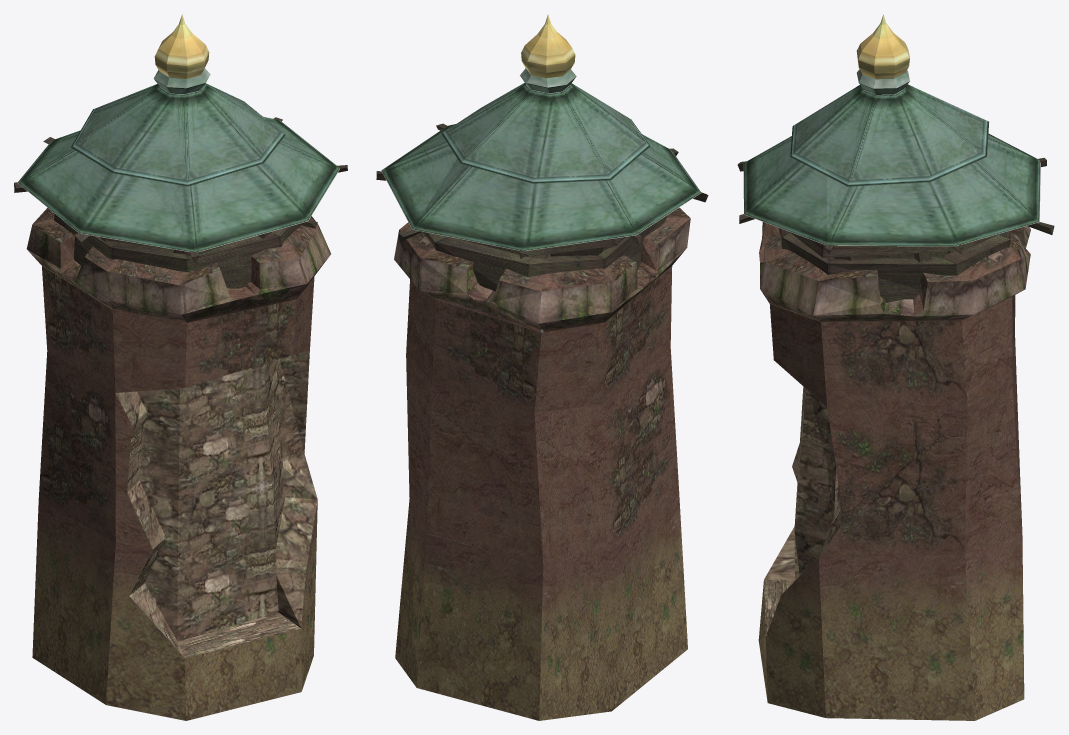
The model's file is C1SMTHBROKE_H.obj.
The picture shows the model from 3 angles, left to right: view 1: azimuth 30°, elevation 25°; view 2: azimuth 150°, elevation 25°; view 3: azimuth 270°, elevation 25°; orthographic projection. The views are drawn at different scales.
Visible parts, largest first — view 1: Node 0; view 2: Node 0; view 3: Node 0.
Part boxes in pixels (x1,y1,x2,y2): Node 0: [14, 14, 347, 720]; Node 0: [376, 14, 708, 720]; Node 0: [737, 14, 1054, 720].
Bounding box in the file's own units: 10.36 × 23.61 × 10.29.
Materials: 5 (5 with a texture image).
